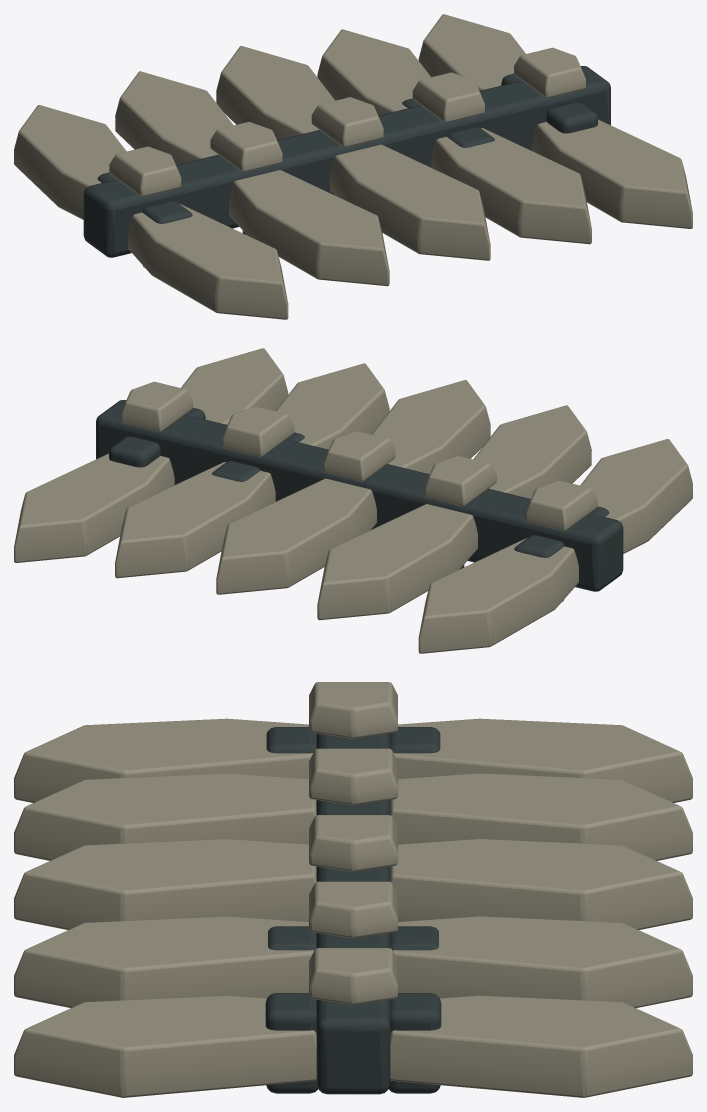
The model's file is ossuary_spine_segment_lod1.glb.
3 views of the same model, one above another, from view 1: azimuth 30°, elevation 25°; view 2: azimuth 150°, elevation 25°; view 3: azimuth 270°, elevation 25° (orthographic). The views are drawn at different scales.
Visible parts, largest first — view 1: LOD1_ancient, LOD1_substrate; view 2: LOD1_ancient, LOD1_substrate; view 3: LOD1_ancient, LOD1_substrate.
Part boxes in pixels (x1,y1,x2,y2): LOD1_ancient: (14,14,692,319); LOD1_substrate: (83,66,610,268); LOD1_ancient: (14,348,692,653); LOD1_substrate: (96,400,623,602); LOD1_ancient: (14,682,692,1097); LOD1_substrate: (265,727,441,1094).
Size of the model in its own units: 3 by 0.535 by 2.59.
